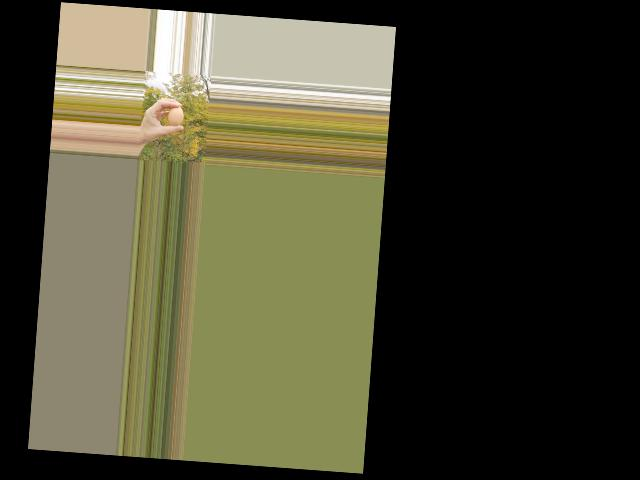egg: (167, 105, 184, 126)
